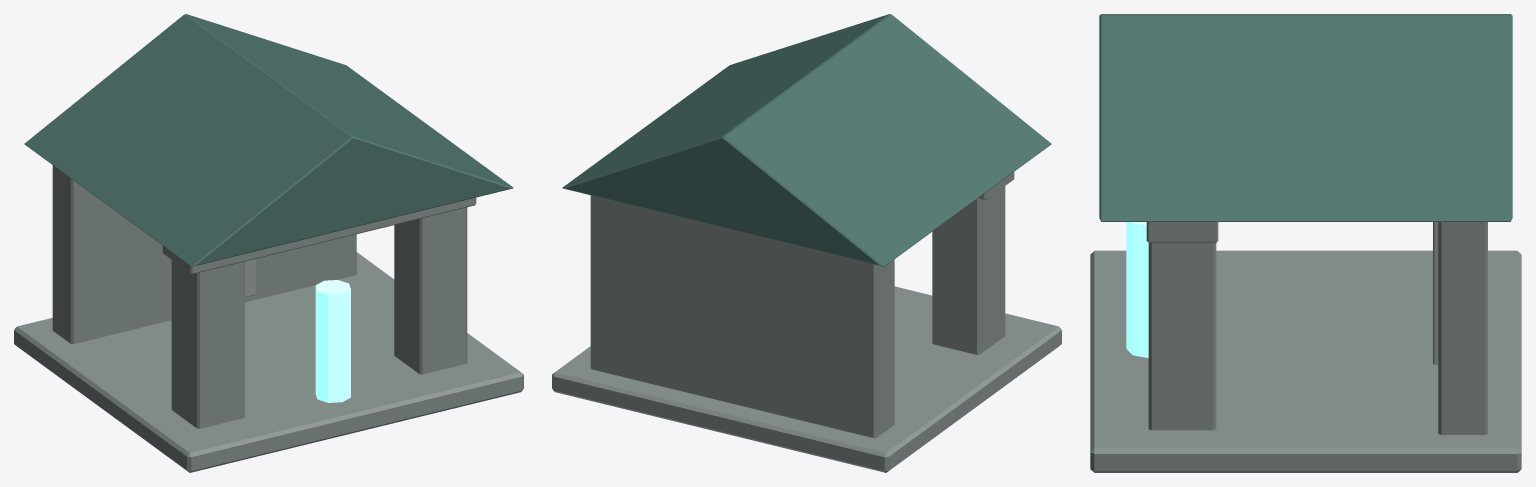
The model's file is LumenGraveboneMausoleum.glb.
The picture shows the model from 3 angles, left to right: view 1: azimuth 30°, elevation 25°; view 2: azimuth 150°, elevation 25°; view 3: azimuth 270°, elevation 25°; orthographic projection. The views are drawn at different scales.
Parts seen in each view (by area): view 1: LumenGraveboneMausoleum; view 2: LumenGraveboneMausoleum; view 3: LumenGraveboneMausoleum.
Boxes of the visible parts, box(x1,y1,x2,y2) form: LumenGraveboneMausoleum: box(14, 14, 523, 472); LumenGraveboneMausoleum: box(552, 14, 1061, 472); LumenGraveboneMausoleum: box(1090, 14, 1521, 472).
Size of the model in its own units: 21.2 by 17.66 by 19.2.
